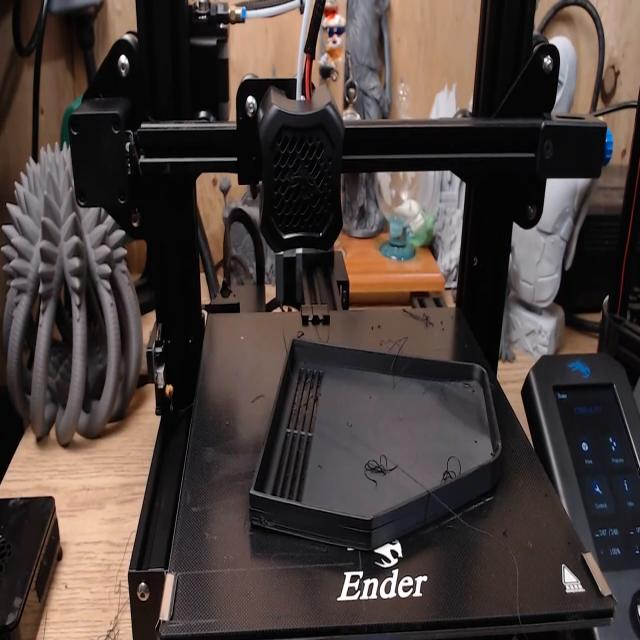spaghetti: (401, 297, 452, 340), (362, 444, 400, 490), (437, 455, 470, 487), (292, 318, 306, 339)
